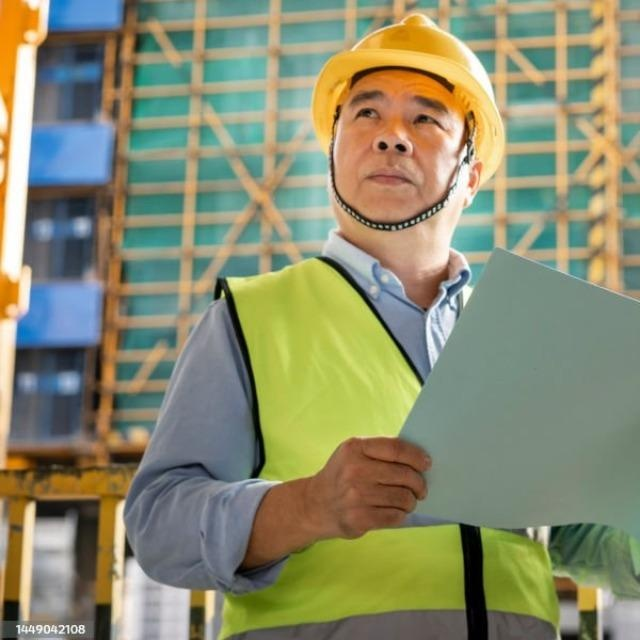Con_Casco: (308, 14, 503, 231)
Con_Chaleco: (201, 256, 559, 640)
